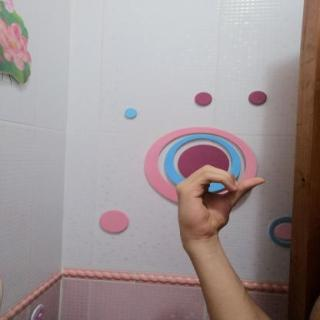WAW: (168, 158, 271, 245)
